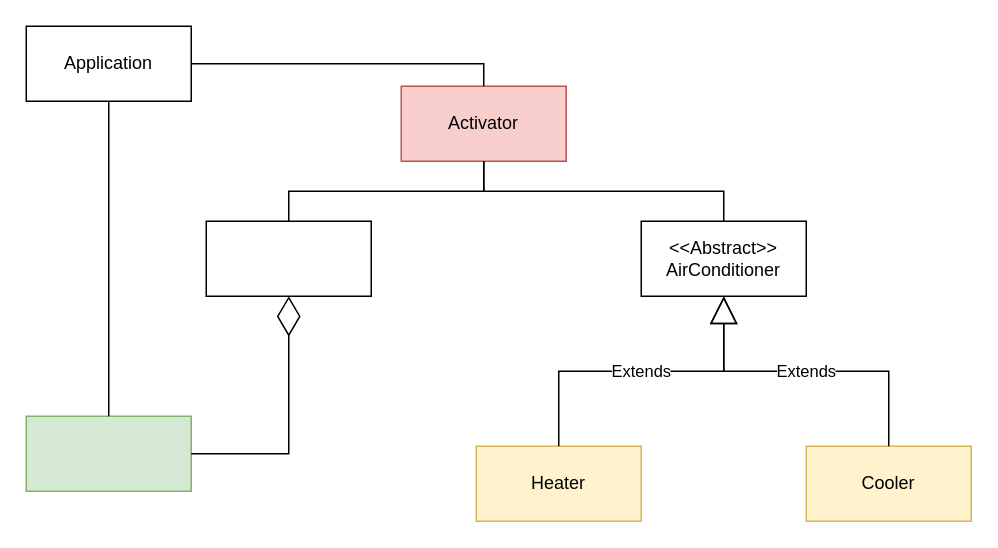
The diagram is 998 pixels wide and 548 high, and some of its shapes have lost their labels. Each missing label, with the centre of its shape:
Context: point 108,453
Decision: point 288,258
